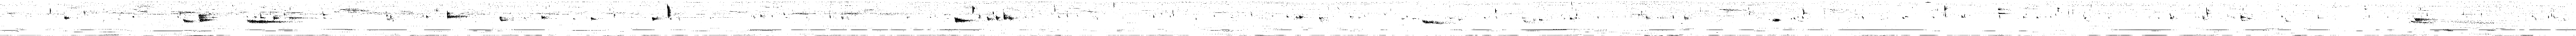meteor: (246, 18, 286, 23), (447, 10, 468, 18), (1421, 20, 1451, 25), (1004, 11, 1015, 21), (954, 16, 969, 23), (2241, 15, 2252, 21), (199, 16, 214, 21), (289, 16, 309, 20), (182, 18, 194, 23), (2415, 18, 2431, 21), (499, 16, 509, 21), (540, 15, 550, 20), (986, 16, 992, 21), (996, 15, 1000, 21), (652, 16, 659, 21), (273, 16, 279, 20), (590, 16, 596, 20), (64, 16, 69, 20)
